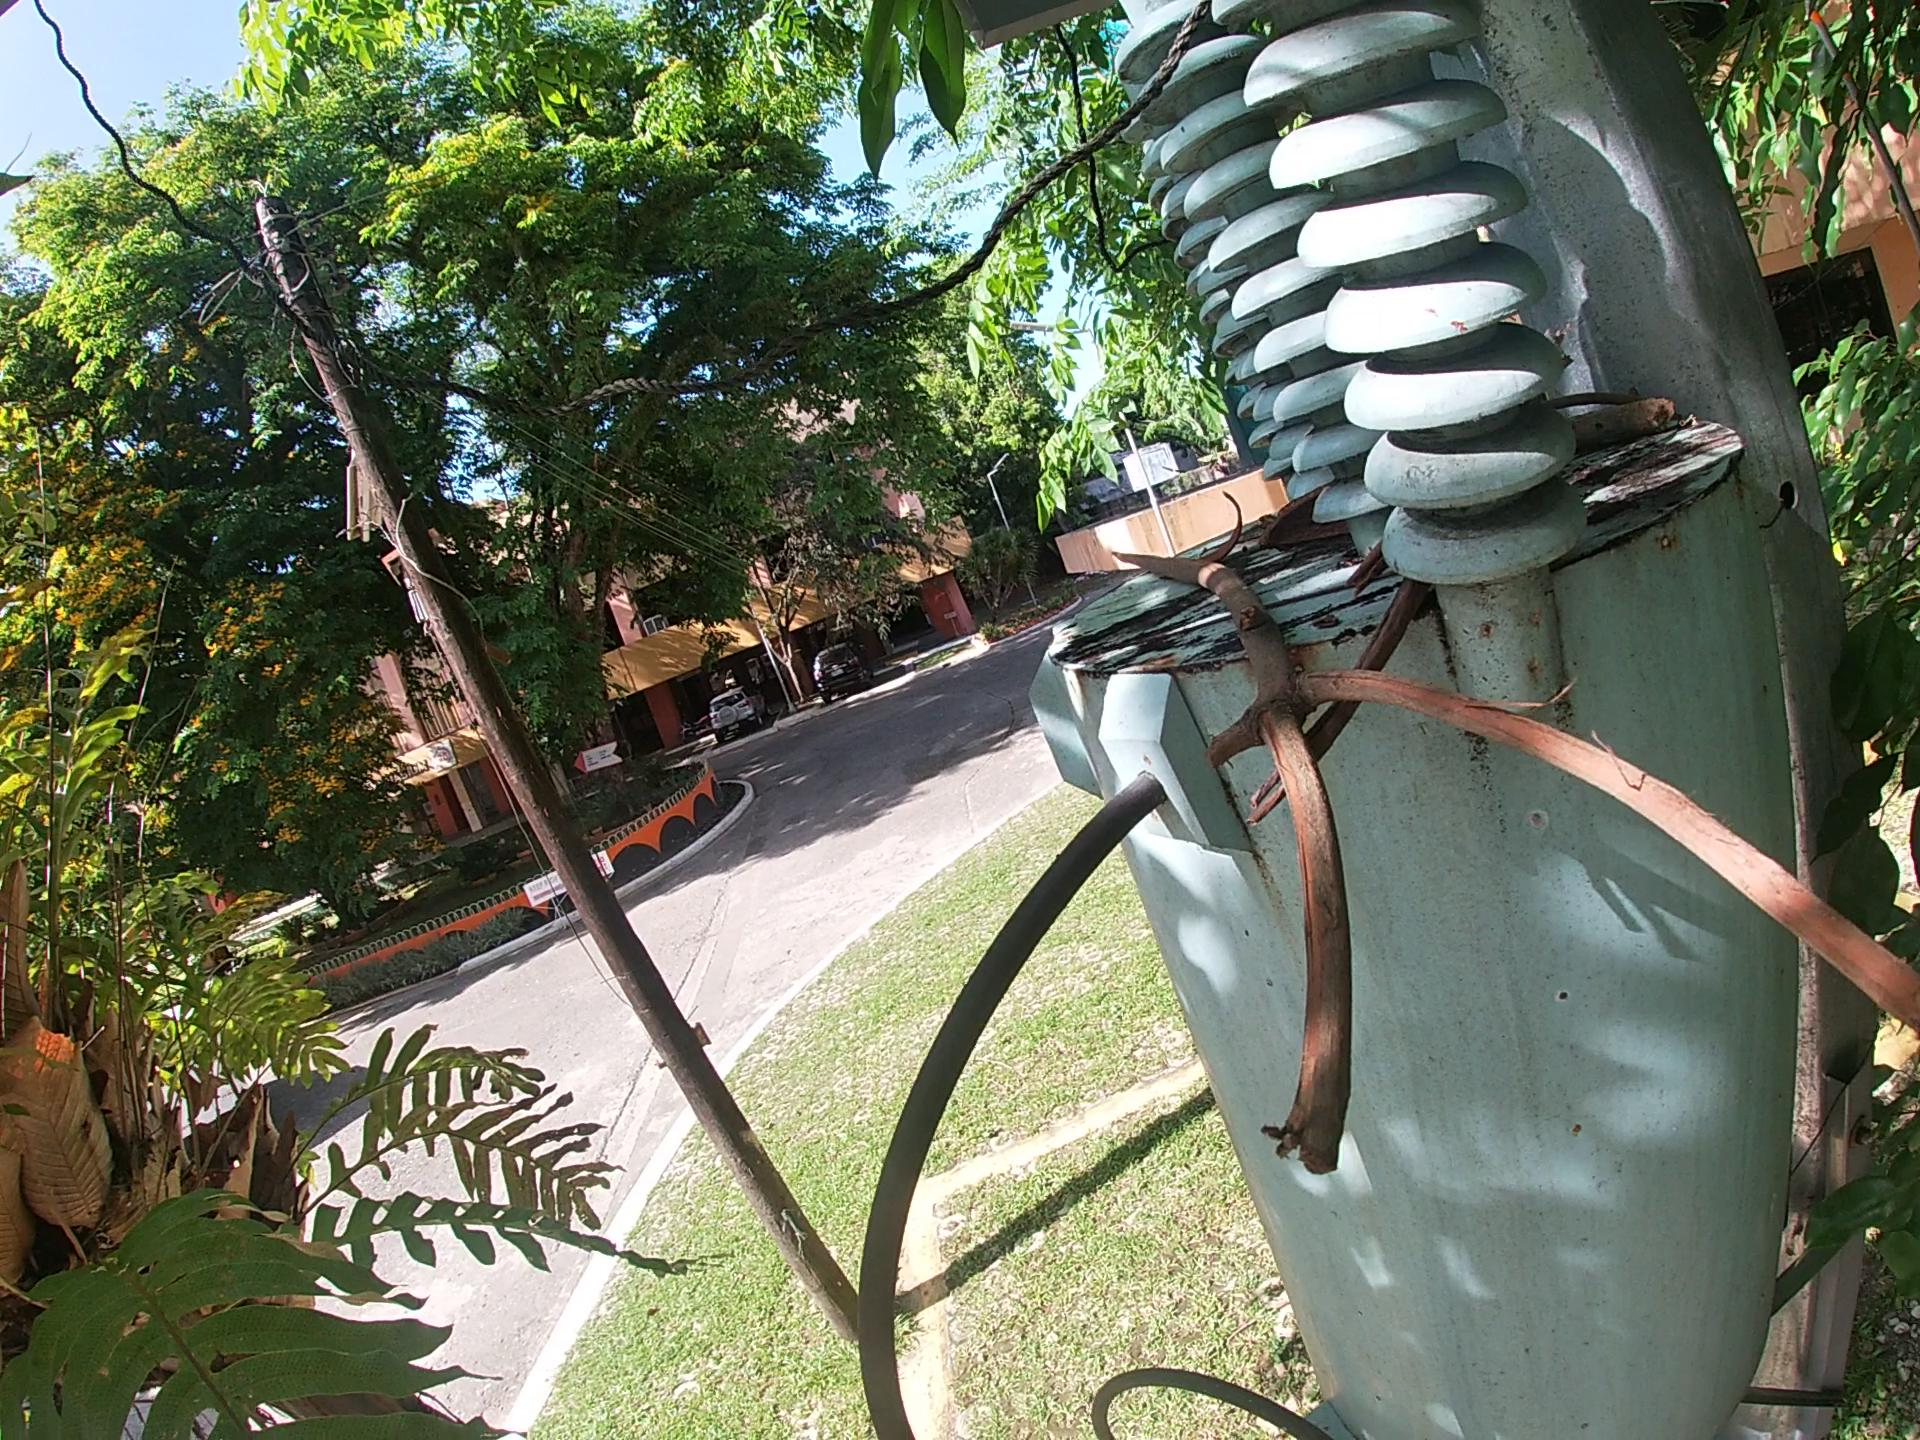mahogany fruit: (1250, 478, 1350, 558), (1200, 490, 1247, 566)
tree branch: (1107, 548, 1920, 1184), (1234, 538, 1448, 836), (1554, 387, 1695, 466)
